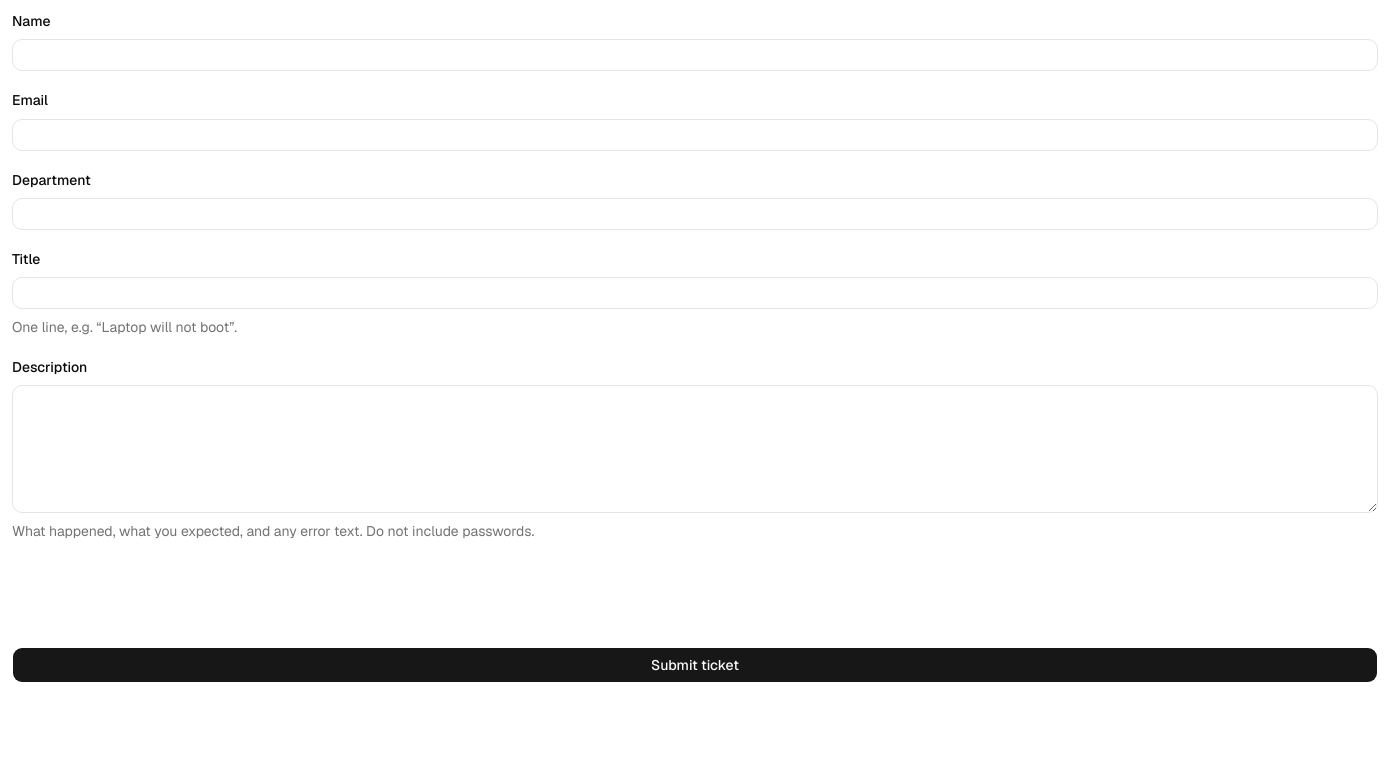
TicketForm › shows a linked field error for an empty title and sends nothing
The image size is (1390, 780).
Type "Jo Tester" into the field labelled "Name".
click(695, 55); type("Jo Tester")  # box [12,39,1378,71]
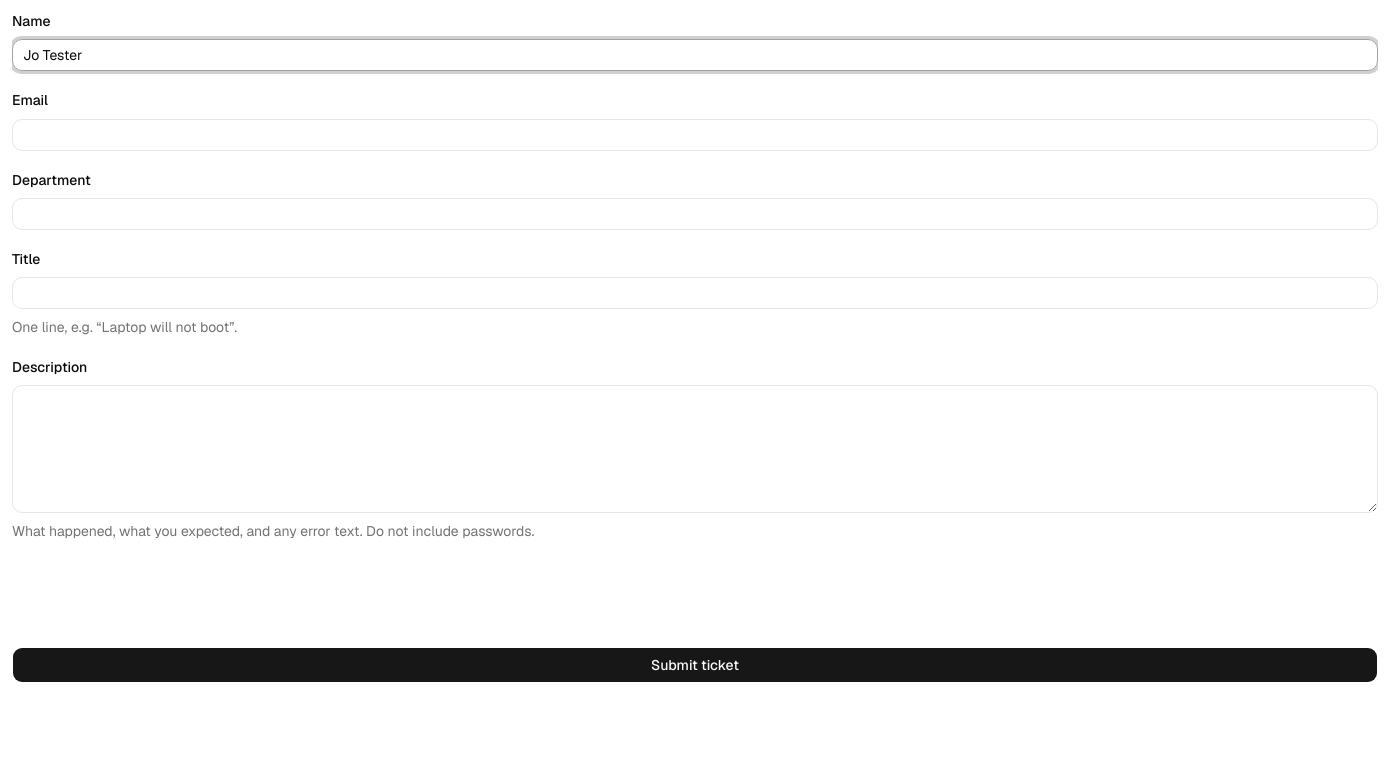
Type "jo@example.com" into the field labelled "Email".
click(695, 134); type("jo@example.com")  # box [12,118,1378,150]
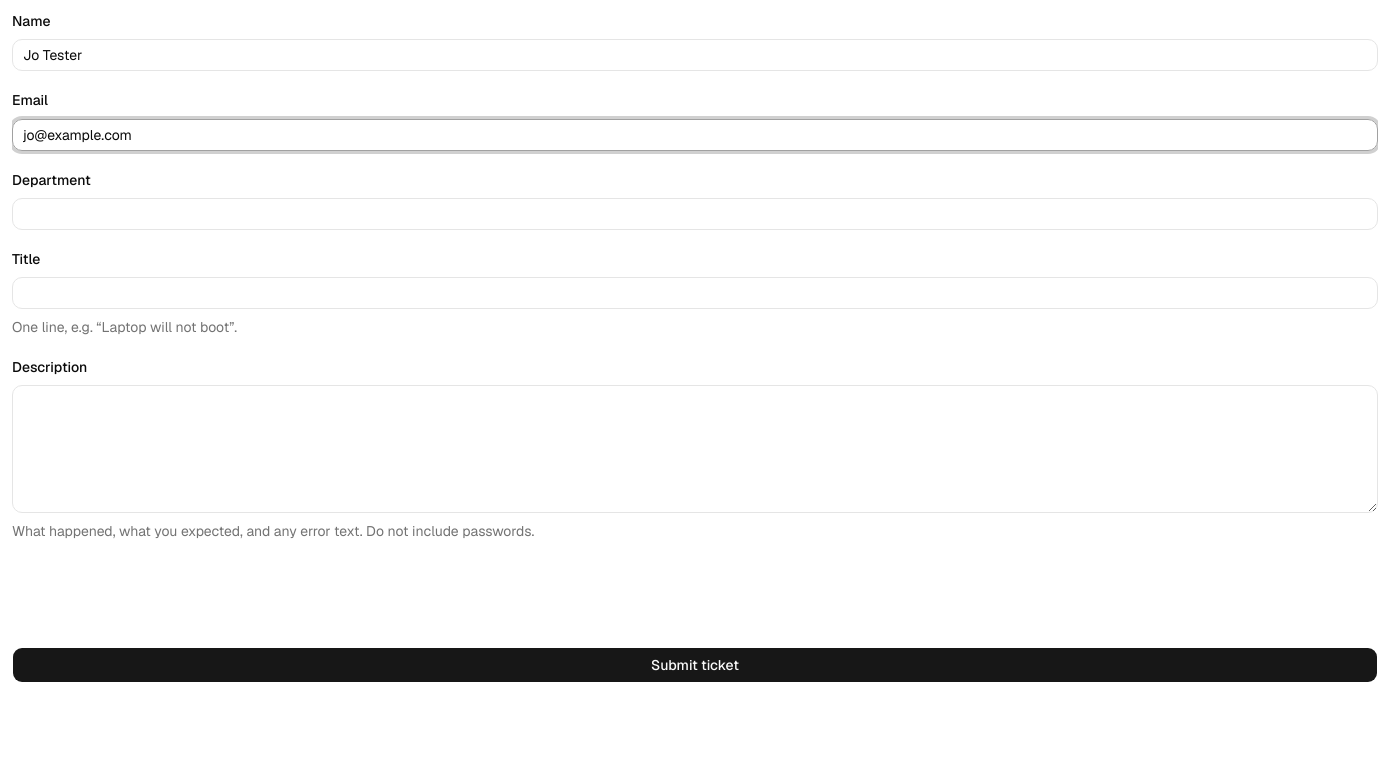
Type "Finance" into the field labelled "Department".
click(695, 214); type("Finance")  # box [12,198,1378,230]
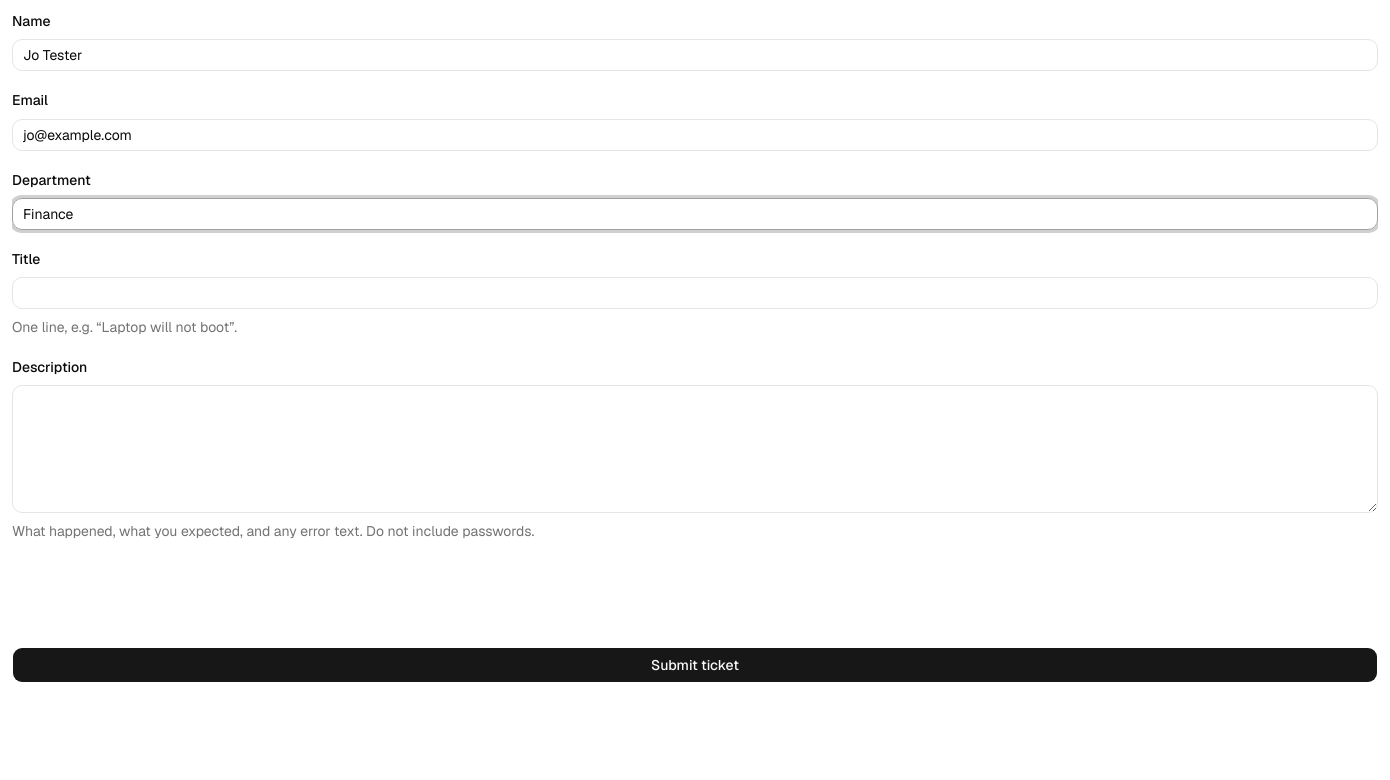
Type "A black screen after the logo." into the text box labelled "Description".
click(695, 449); type("A black screen after the logo.")  # box [12,385,1378,513]
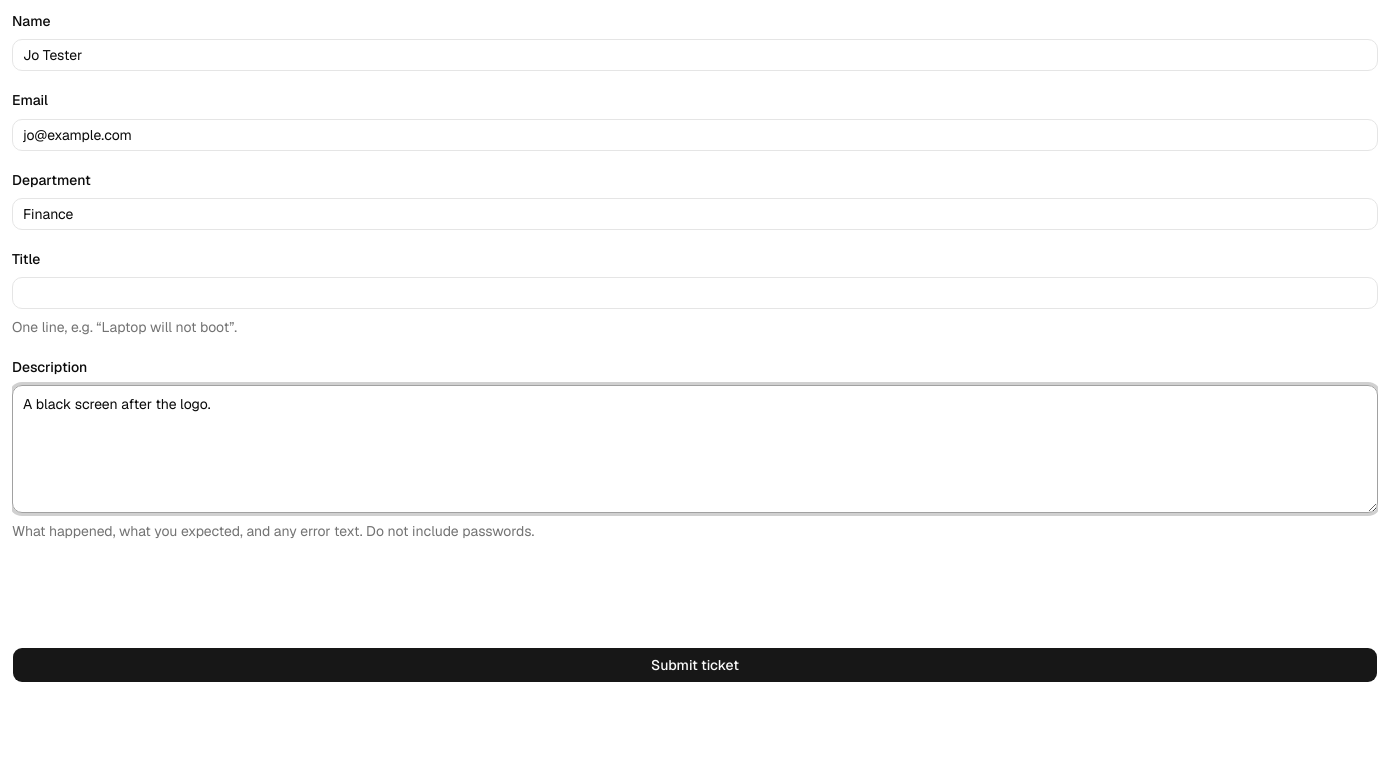
Click the button "Submit ticket".
click(695, 665)  # box [12,647,1378,683]
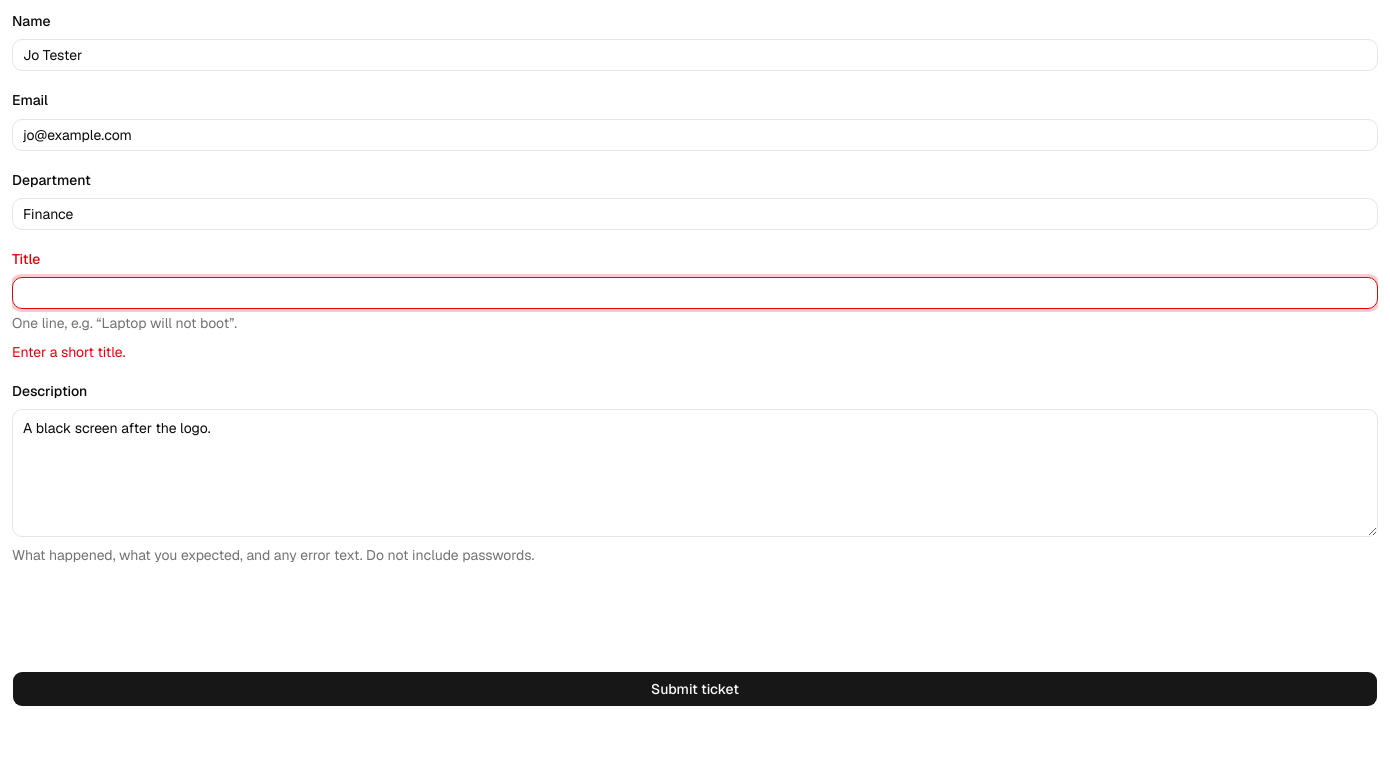
Expected: the message with id "title-error" reads "Enter a short title.", [12,343,126,361]
